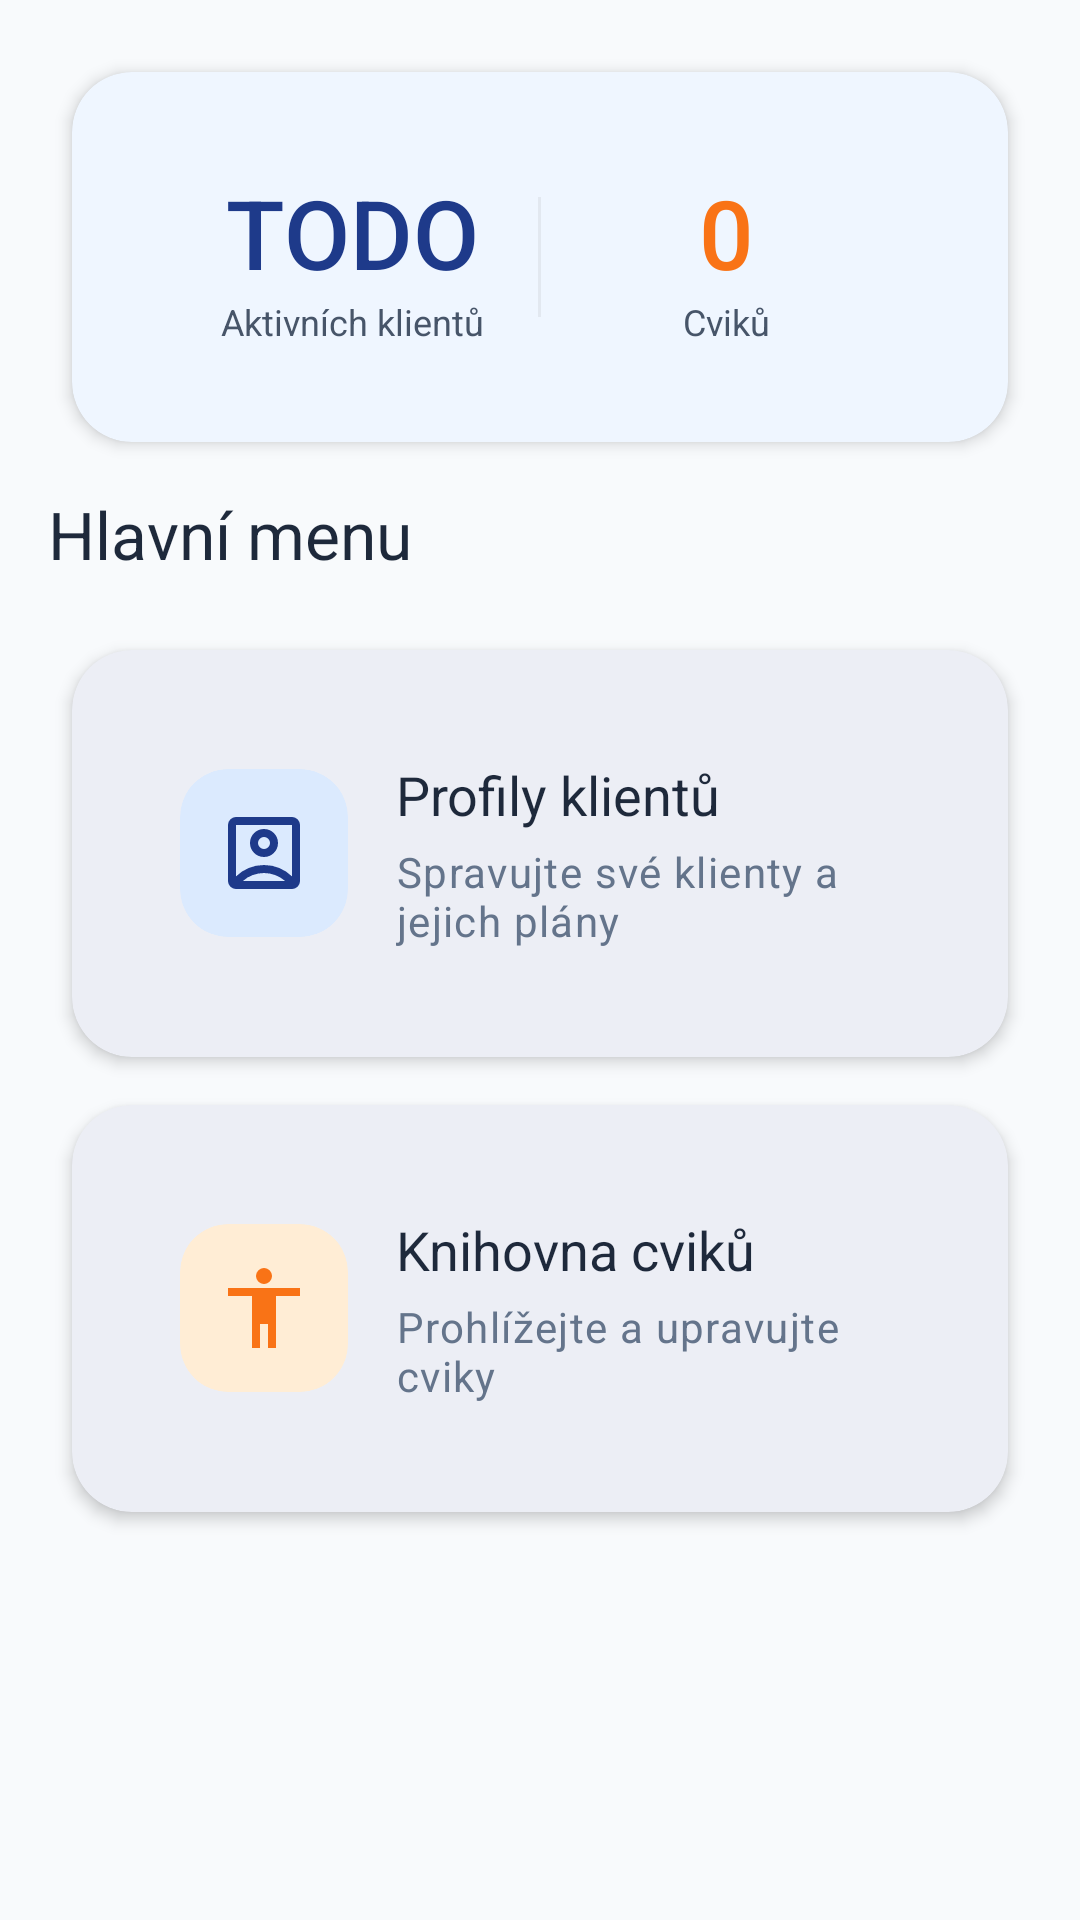

Screen size 1080px x 1920px. Icon name, then its center in pixels as [x,y]:
account box: [264,853]
exercises: [264,1308]
